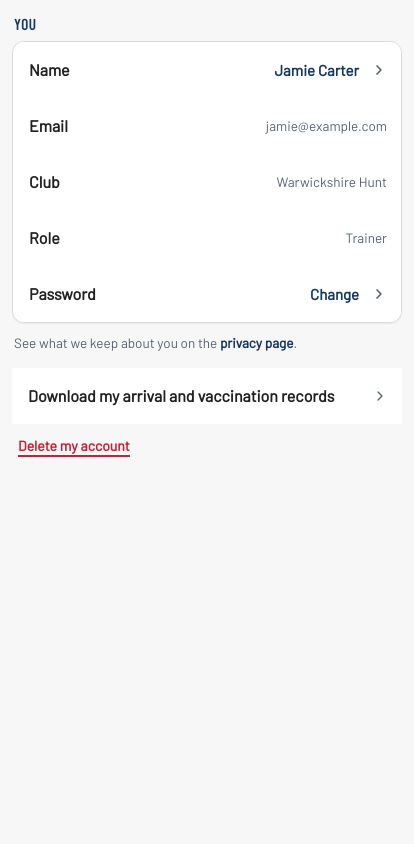
Scenario: AccountPage › edits the name in place and saves it with Done
This screenshot has width=414, height=844.
Click the button with aria-label "Name:" at (49, 69), box [13, 42, 401, 98]
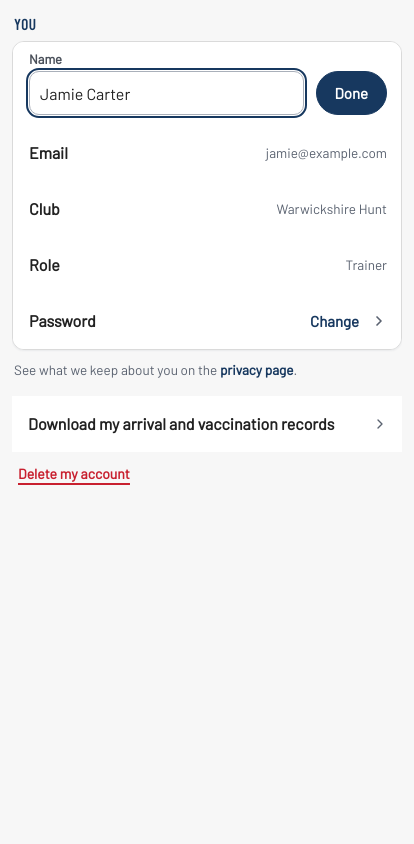
Now the field labelled "Name" holds "Jamie Carter"
Replace the text in the field labelled "Name" with "  Jamie C. Carter " at (166, 93), box [29, 71, 304, 115]
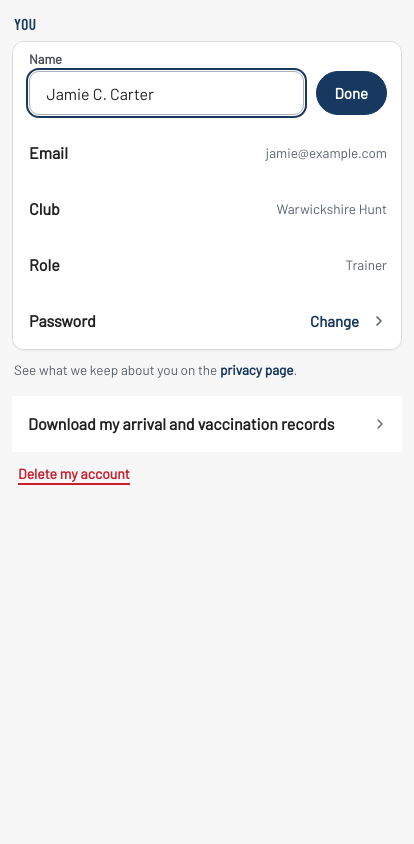
Click the button "Done" at (351, 93), box [316, 71, 387, 115]
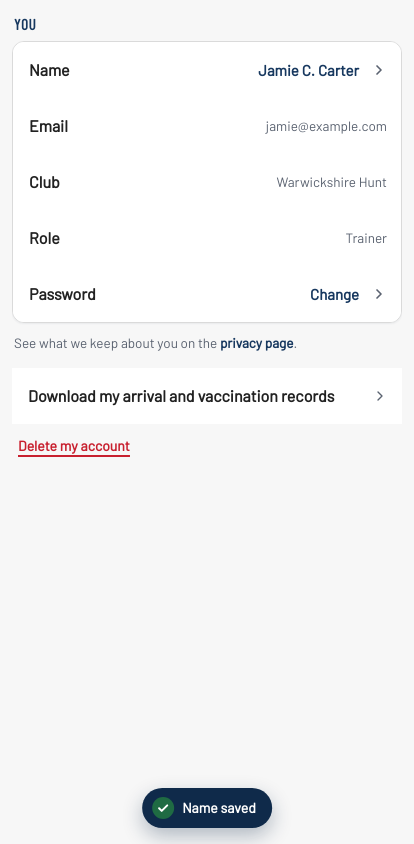
Now the button with aria-label "Name: Jamie C. Carter" is shown, box [13, 42, 401, 98]
Now the text "Name saved" is shown, box [182, 800, 256, 816]
